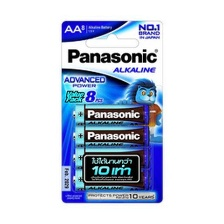battery: (68, 144, 153, 170), (70, 167, 153, 192), (70, 101, 152, 126), (69, 124, 152, 146)
book: (58, 16, 165, 206)
